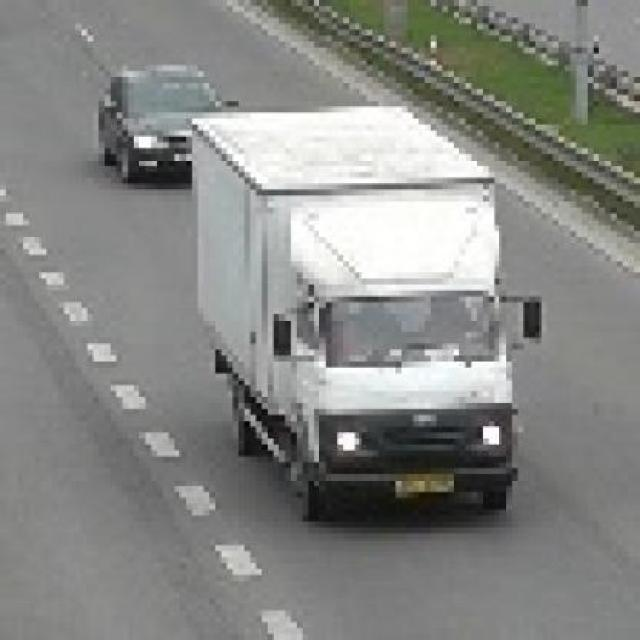truck: (193, 89, 554, 511)
